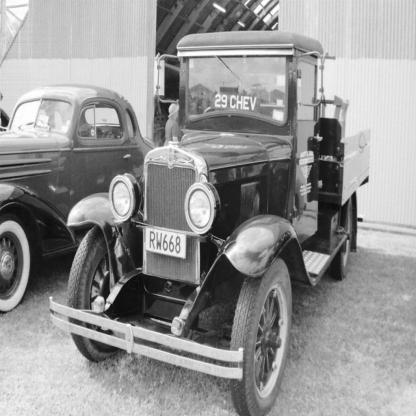Car: (48, 29, 376, 416), (1, 83, 160, 319)
